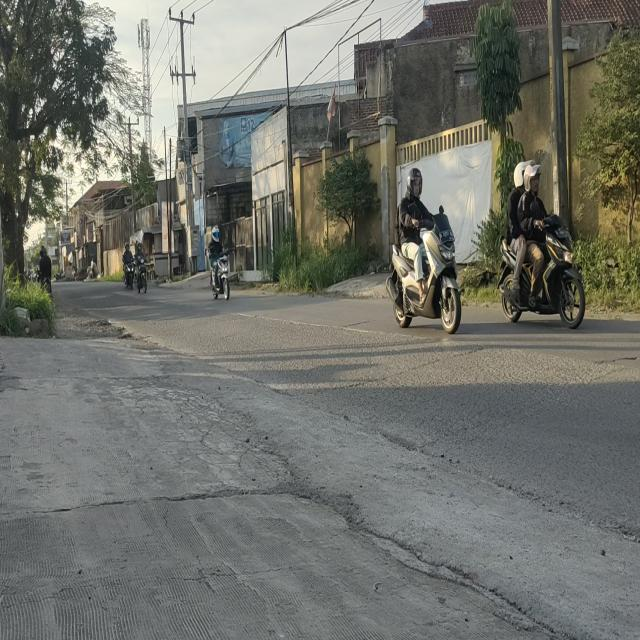helmet: (524, 166, 541, 193), (407, 170, 423, 195), (514, 160, 528, 188), (211, 224, 219, 243)
